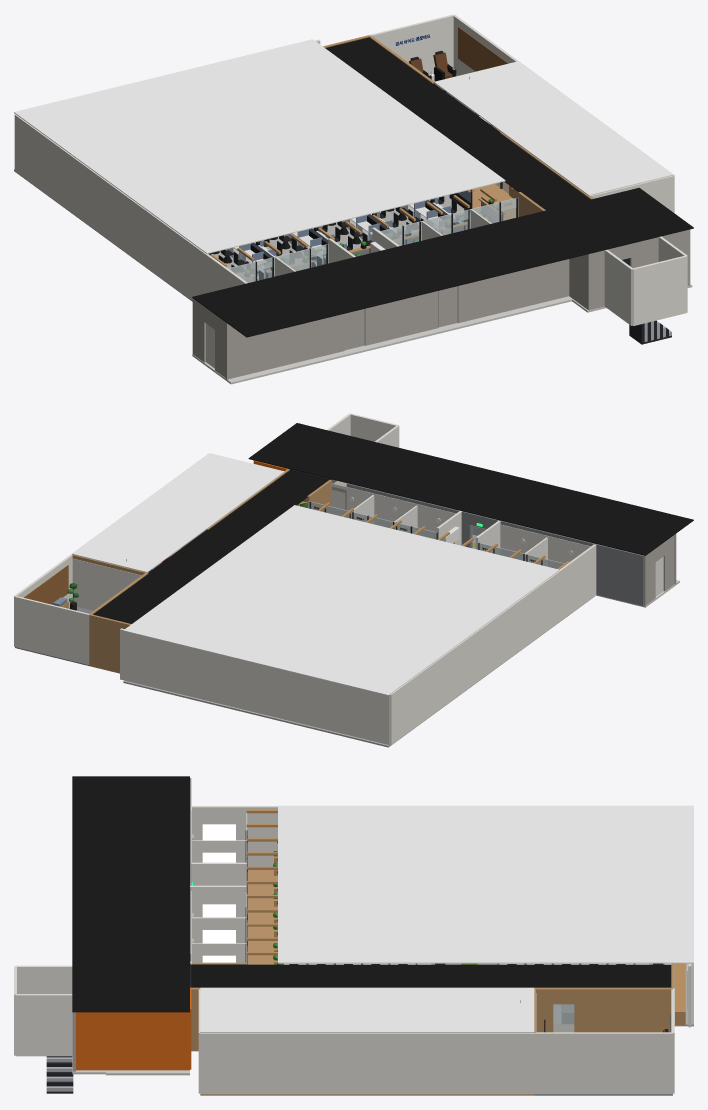
The model's file is floor_8f.glb.
The picture shows the model from 3 angles, top to bottom: view 1: azimuth 30°, elevation 25°; view 2: azimuth 150°, elevation 25°; view 3: azimuth 270°, elevation 25°; orthographic projection. The views are drawn at different scales.
Parts seen in each view (by area): view 1: Ceiling_Office, Ceiling_Hall_BlackGrid, Ceiling_RestBar, Counsel_West_Wall, Ceiling_Black_Back, West_Corr_SouthWall_1, West_Corr_SouthWall_5, Stair_8F_South_Wall, West_Corr_SouthWall_3, SleepRoom_North_Wall, Elev_Corridor_Floor, Stair_8F_West_Wall (+12 smaller); view 2: Ceiling_Office, Ceiling_Hall_BlackGrid, North_Window_Wall, Counsel_West_Wall, Ceiling_RestBar, Ceiling_Black_Back, SleepRoom_North_Wall, West_Corr_BrickWall_1, Meeting_Back_Panel_E, SleepRoom_South_Panel, Meeting_Back_Panel_W, North_End_Wall (+8 smaller); view 3: Ceiling_Office, Ceiling_Hall_BlackGrid, Ceiling_RestBar, Lounge_East_Wall, Ceiling_Black_Back, SleepRoom_East_Wall, RestBar_East_Wall, Elev_Orange_Wall, Corr_East_Wood_N2, Stair_8F_East_Wall, Counsel_West_Wall, Meeting_Aisle_WoodFloor (+13 smaller).
Part boxes in pixels (x1,y1,x2,y2): Ceiling_Office: (14, 39, 505, 253); Ceiling_Hall_BlackGrid: (192, 187, 693, 337); Ceiling_RestBar: (434, 61, 673, 195); Counsel_West_Wall: (14, 114, 247, 300); Ceiling_Black_Back: (325, 37, 590, 210); West_Corr_SouthWall_1: (225, 313, 344, 379); West_Corr_SouthWall_5: (457, 259, 569, 323); Stair_8F_South_Wall: (632, 256, 687, 325); West_Corr_SouthWall_3: (364, 291, 437, 345); SleepRoom_North_Wall: (369, 14, 454, 73); Elev_Corridor_Floor: (192, 296, 572, 384); Stair_8F_West_Wall: (604, 249, 632, 325); Ceiling_Office: (123, 505, 559, 695); Ceiling_Hall_BlackGrid: (248, 423, 693, 555); North_Window_Wall: (120, 628, 390, 744); Counsel_West_Wall: (390, 544, 596, 744); Ceiling_RestBar: (72, 453, 284, 572); Ceiling_Black_Back: (93, 470, 328, 623); SleepRoom_North_Wall: (14, 596, 89, 664); West_Corr_BrickWall_1: (489, 518, 643, 606); Meeting_Back_Panel_E: (332, 483, 455, 538); SleepRoom_South_Panel: (72, 558, 141, 610); Meeting_Back_Panel_W: (500, 524, 590, 568); North_End_Wall: (89, 614, 131, 672); Ceiling_Office: (278, 805, 693, 963); Ceiling_Hall_BlackGrid: (72, 776, 189, 1012); Ceiling_RestBar: (200, 987, 534, 1032); Lounge_East_Wall: (326, 1033, 534, 1094); Ceiling_Black_Back: (191, 964, 671, 987); SleepRoom_East_Wall: (534, 1032, 672, 1094); RestBar_East_Wall: (200, 1033, 326, 1094); Elev_Orange_Wall: (76, 1012, 189, 1070); Corr_East_Wood_N2: (574, 987, 672, 1032); Stair_8F_East_Wall: (15, 994, 72, 1056); Counsel_West_Wall: (192, 806, 277, 866); Meeting_Aisle_WoodFloor: (247, 870, 277, 964).
Bounding box in the file's own units: 28.88 × 5.4 × 32.38.
